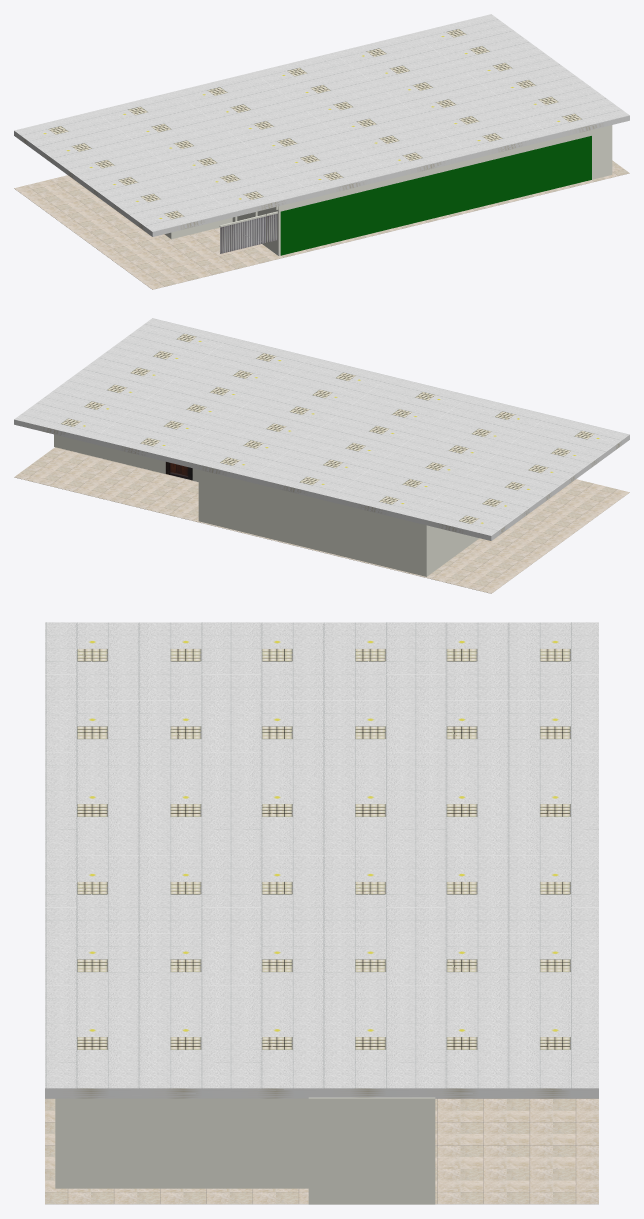
The model's file is Room_Test02.FBX.
The picture shows the model from 3 angles, top to bottom: view 1: azimuth 30°, elevation 25°; view 2: azimuth 150°, elevation 25°; view 3: azimuth 270°, elevation 25°; orthographic projection. The views are drawn at different scales.
Visible parts, largest first — view 1: POP, Wall, Floor, Binds010; view 2: POP, Floor, Wall; view 3: POP, Wall, Floor.
Part boxes in pixels (x1,y1,x2,y2): POP: (14, 14, 629, 236); Wall: (164, 125, 612, 255); Floor: (14, 160, 629, 289); Binds010: (220, 216, 265, 253); POP: (14, 318, 629, 540); Floor: (14, 447, 629, 593); Wall: (54, 434, 479, 576); POP: (45, 622, 598, 1098); Wall: (55, 1097, 435, 1204); Floor: (45, 1098, 598, 1204).
Bounding box in the file's own units: 28315 × 3276 × 14204.
